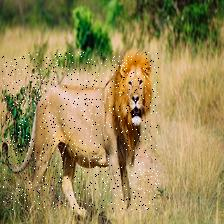Lion: (3, 52, 160, 210)
